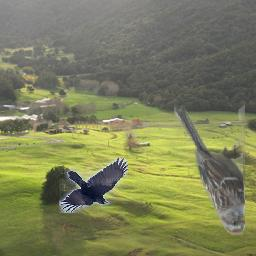Crow: (60, 159, 129, 214)
Sparrow: (175, 105, 246, 235)
